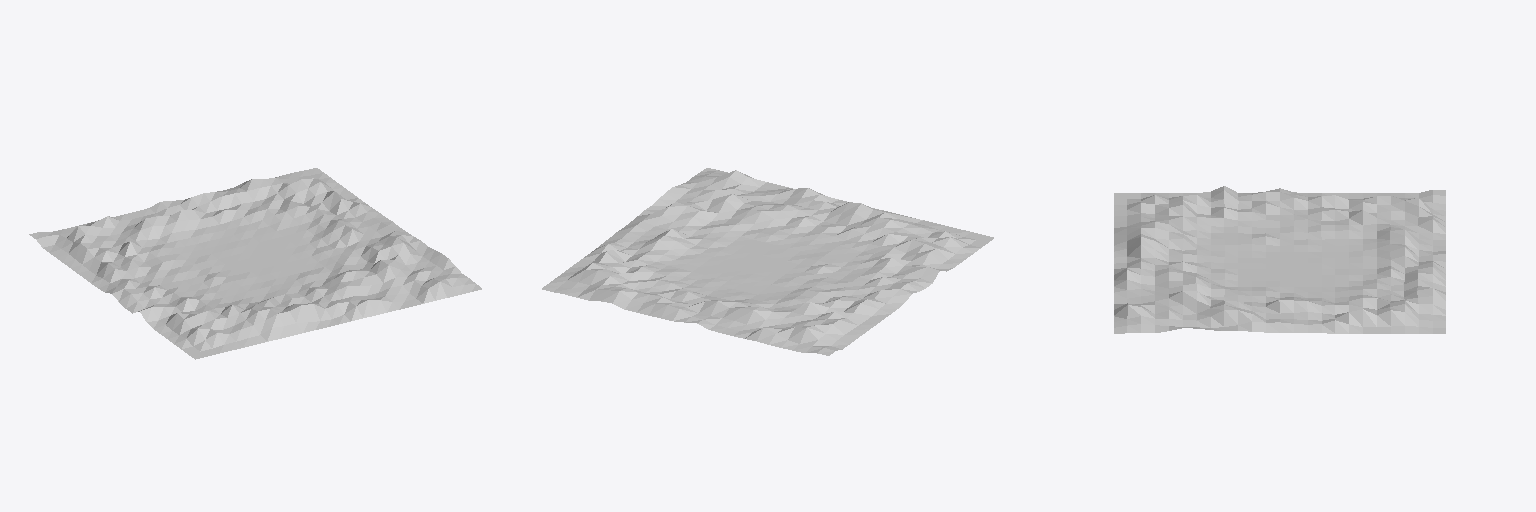
The model's file is landscape.obj.
3 renders of one model, left to right at view 1: azimuth 30°, elevation 25°; view 2: azimuth 150°, elevation 25°; view 3: azimuth 270°, elevation 25°, orthographic.
Parts seen in each view (by area): view 1: Plane003; view 2: Plane003; view 3: Plane003.
Part boxes in pixels (x1,y1,x2,y2): Plane003: (29,168,481,359); Plane003: (542,168,993,355); Plane003: (1114,186,1445,333).
Size of the model in its own units: 92.28 by 4.61 by 92.3.